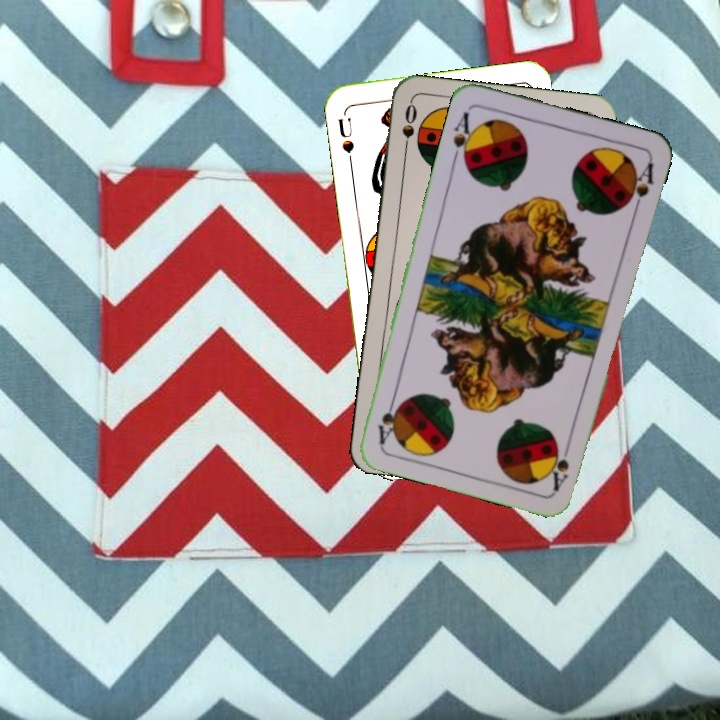SA: (449, 108, 479, 167), (548, 435, 574, 493)
SO: (398, 99, 420, 159)
SU: (334, 108, 356, 168)
